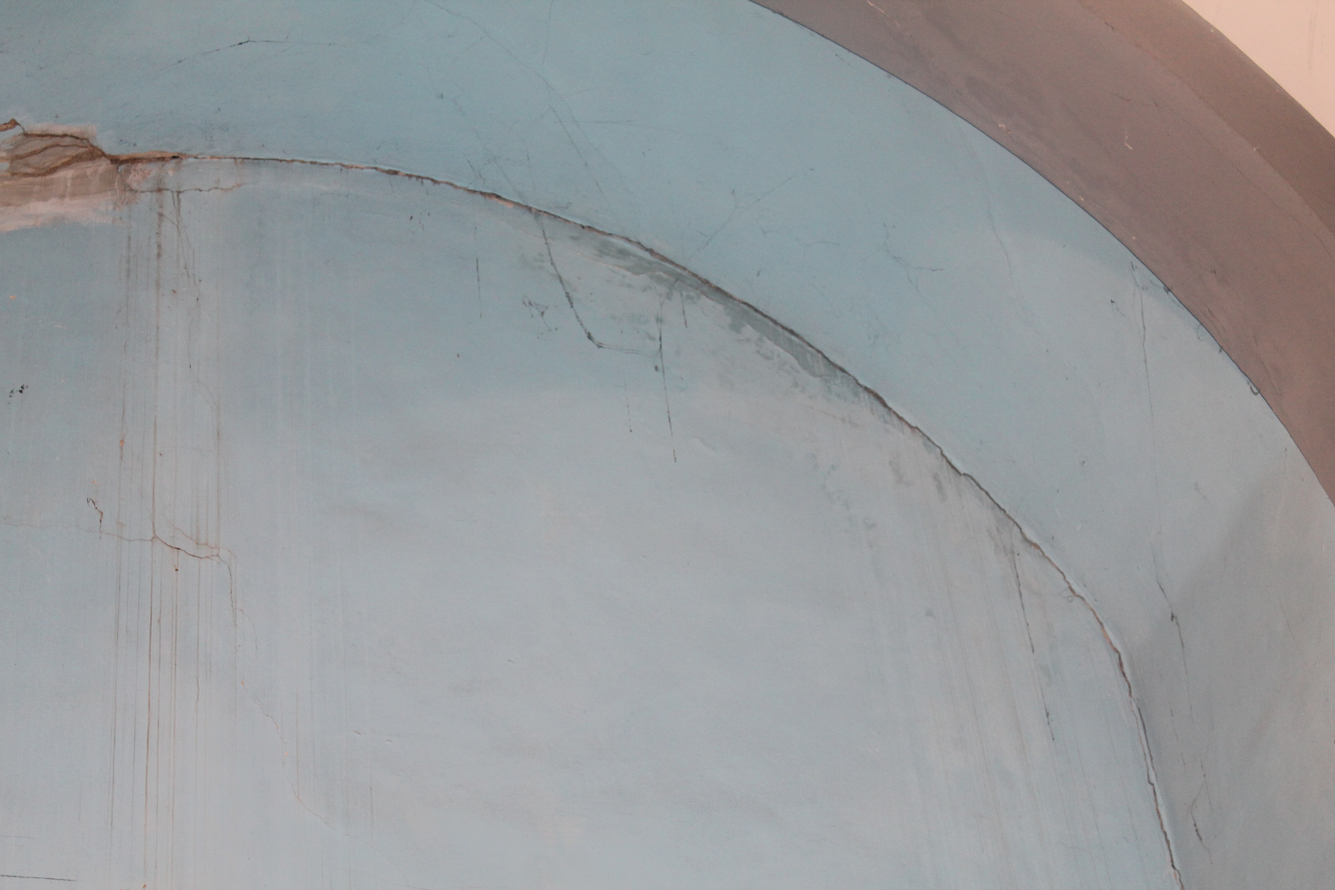Crack: (0, 67, 1153, 753)
